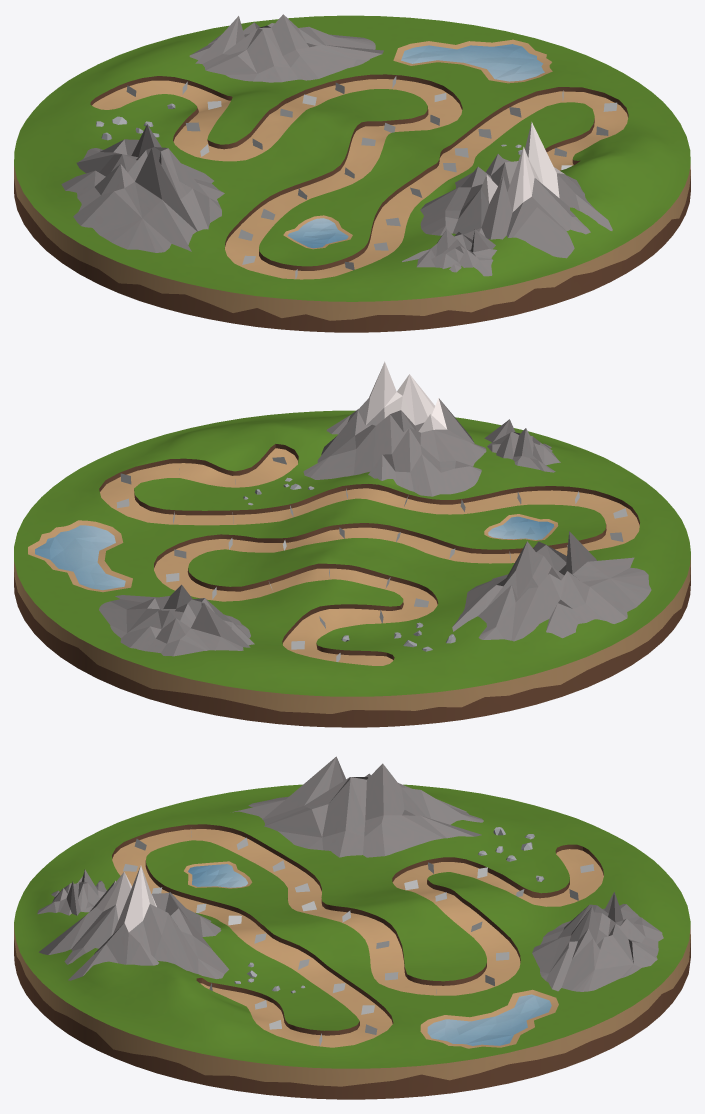
Rendered from Land.fbx.
3 renders of one model, top to bottom at view 1: azimuth 30°, elevation 25°; view 2: azimuth 150°, elevation 25°; view 3: azimuth 270°, elevation 25°, orthographic.
Parts seen in each view (by area): view 1: Terrain; view 2: Terrain; view 3: Terrain.
Boxes of the visible parts, x1=… form: Terrain: x1=14, y1=14, x2=690, y2=332; Terrain: x1=14, y1=361, x2=690, y2=727; Terrain: x1=14, y1=756, x2=690, y2=1099.
Size of the model in its own units: 49.71 by 10.34 by 49.73.
